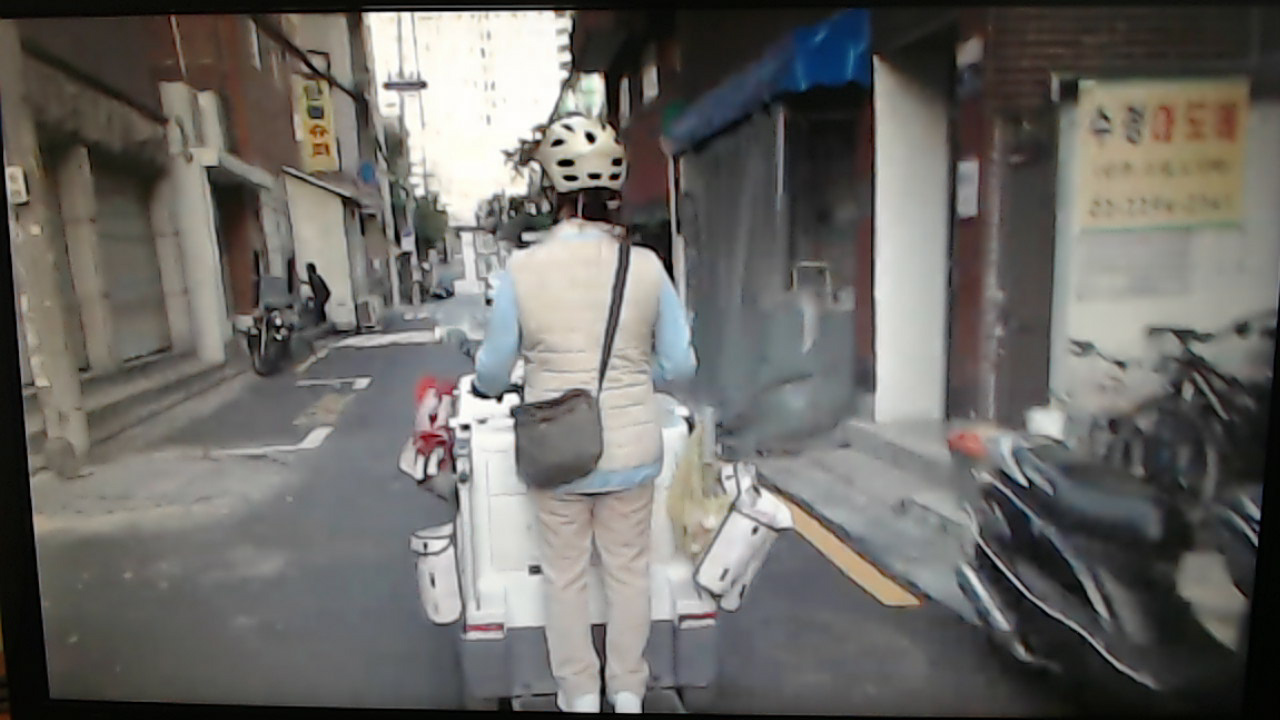Yakurut: (479, 113, 744, 718)
